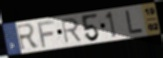1: (104, 11, 118, 39)
5: (80, 12, 101, 42)
F: (36, 19, 55, 48)
L: (124, 9, 145, 35)
R: (15, 23, 41, 52), (60, 17, 83, 45)
